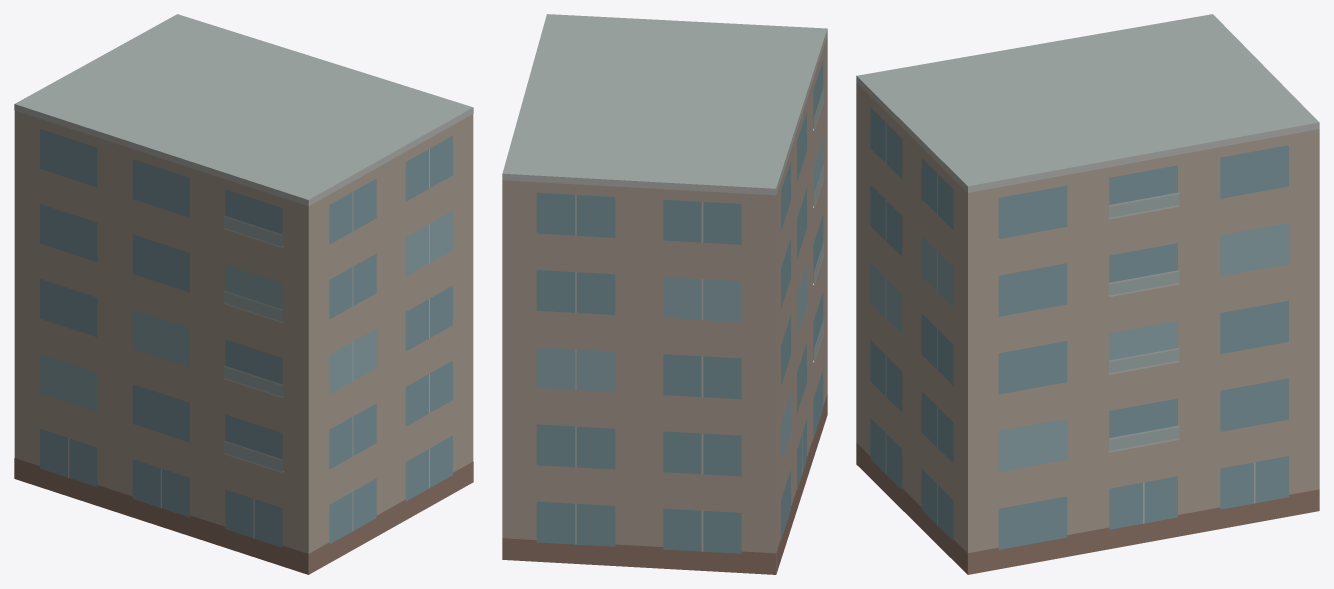
Rendered from survey-upis-32905206.glb.
3 views of the same model, side by side, from view 1: azimuth 30°, elevation 25°; view 2: azimuth 150°, elevation 25°; view 3: azimuth 270°, elevation 25° (orthographic). The views are drawn at different scales.
Visible parts, largest first — view 1: survey-upis-32905206.tmp; view 2: survey-upis-32905206.tmp; view 3: survey-upis-32905206.tmp.
Boxes of the visible parts, x1,y1,x2,y2 form: survey-upis-32905206.tmp: [14, 14, 473, 574]; survey-upis-32905206.tmp: [502, 14, 827, 574]; survey-upis-32905206.tmp: [856, 14, 1319, 574].
Bounding box in the file's own units: 13.66 × 14.35 × 15.51.
